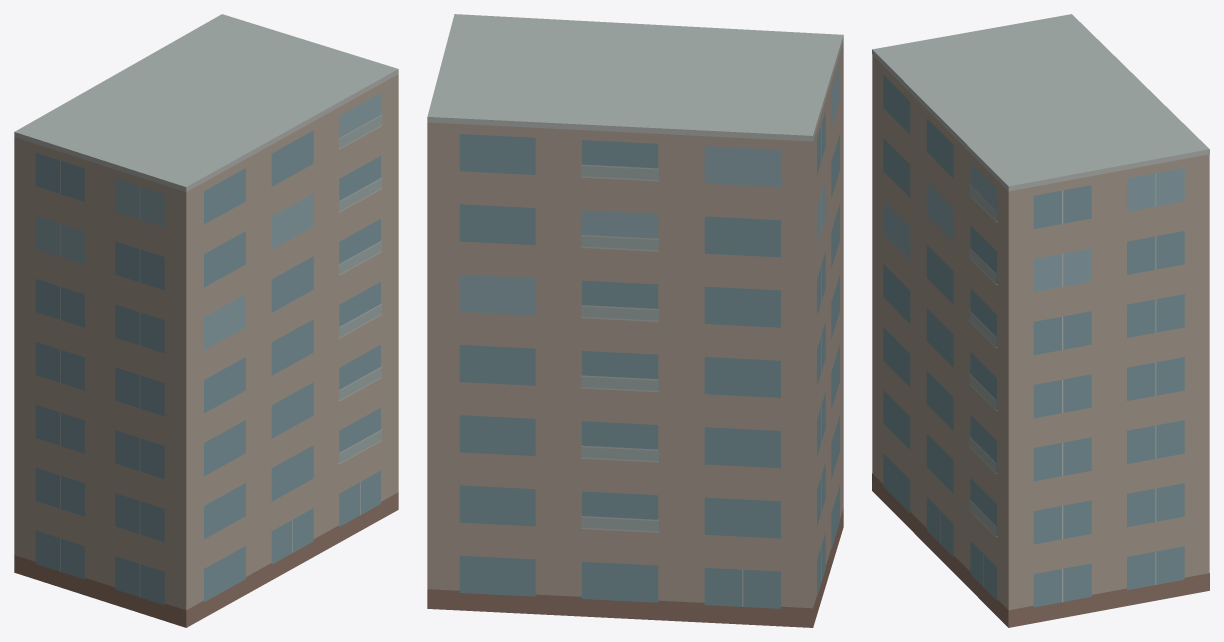
Rendered from survey-upis-32859628.glb.
The picture shows the model from 3 angles, left to right: view 1: azimuth 30°, elevation 25°; view 2: azimuth 150°, elevation 25°; view 3: azimuth 270°, elevation 25°; orthographic projection. The views are drawn at different scales.
Parts seen in each view (by area): view 1: survey-upis-32859628.tmp; view 2: survey-upis-32859628.tmp; view 3: survey-upis-32859628.tmp.
Boxes of the visible parts, left/top/right/bottom form: survey-upis-32859628.tmp: left=14, top=14, right=398, bottom=627; survey-upis-32859628.tmp: left=427, top=14, right=843, bottom=627; survey-upis-32859628.tmp: left=872, top=14, right=1209, bottom=627.
Bounding box in the file's own units: 17.89 × 21.35 × 14.81.
